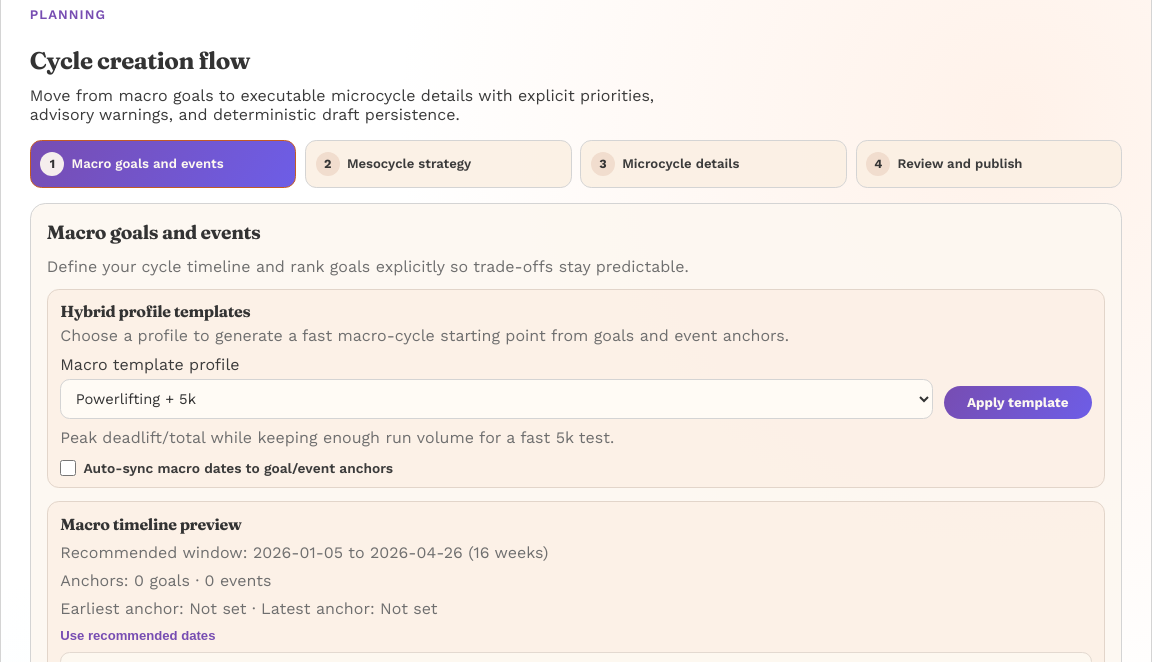
Test: CycleCreationFlow › updates macro timeline dates when an event date moves after template apply
The width and height of the screenshot is (1152, 662).
Select "Powerlifting + 5k" in the dropdown labelled "Macro template profile" at [496, 399], box [60,379,933,419]
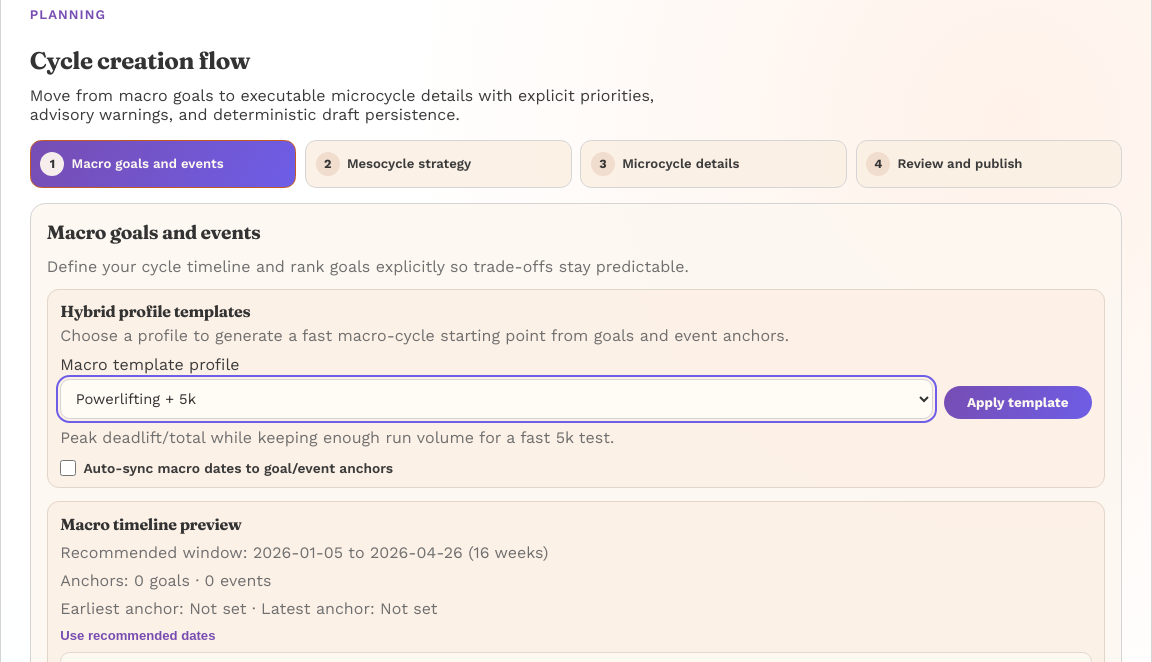
Click the button "Apply template" at [1018, 402], box [944,386,1092,419]
(page scrolled)
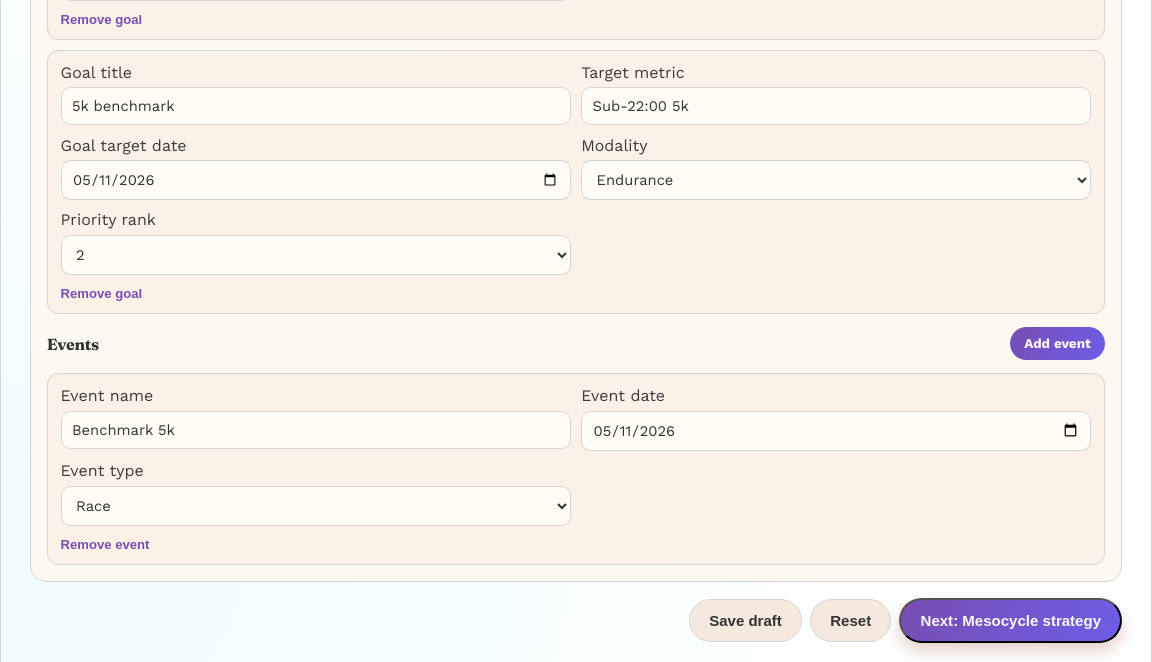
Type "2026-08-15" into the date field labelled "Event date" at [836, 431], box [581,411,1091,451]
(page scrolled)
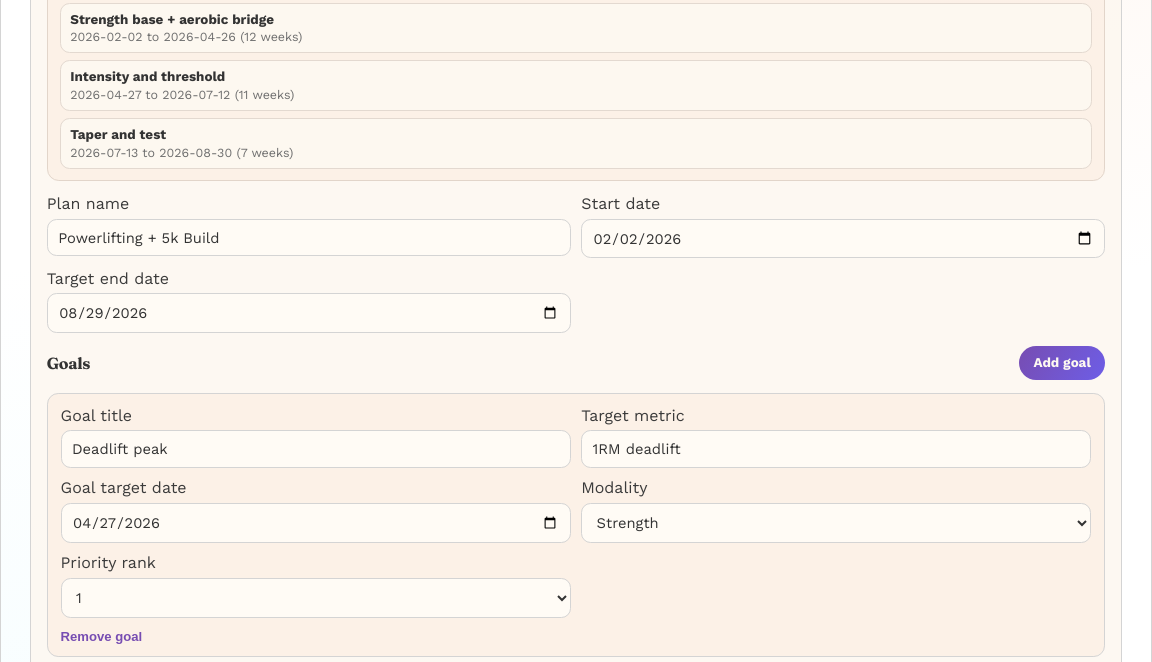
Expected: the date field labelled "Target end date" does not hold "2026-05-25", [47,294,571,333]
